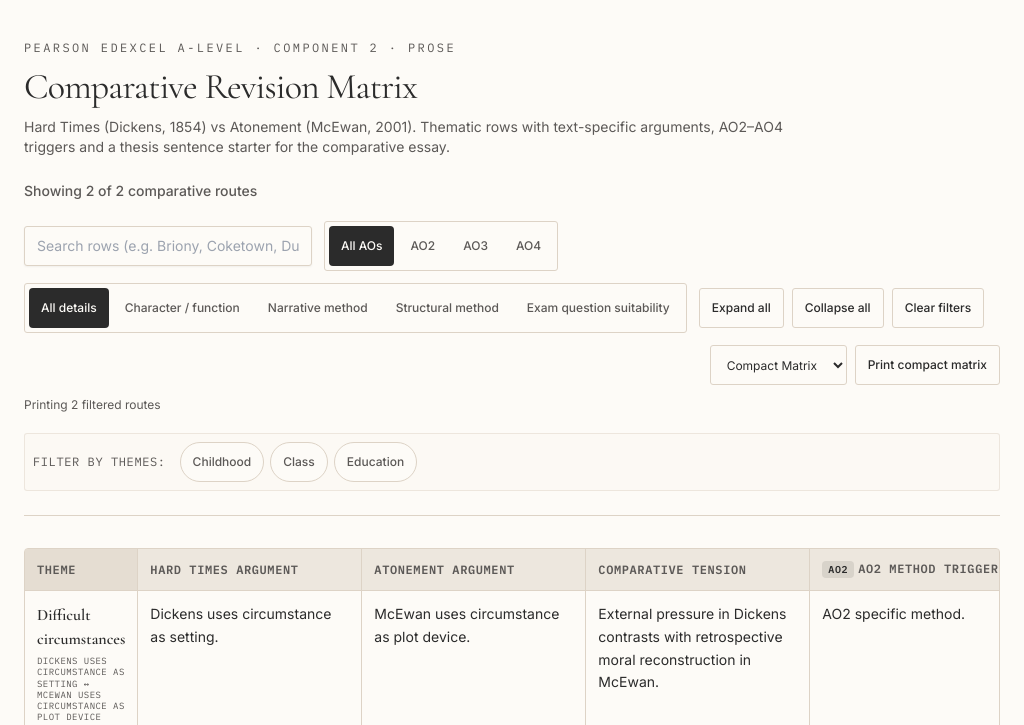
Test: ComparativeMatrix › filters rows by inclusion when an AO filter is selected
This screenshot has width=1024, height=725.
Expected: the text "Showing 2 of 2 comparative routes" is shown, [24,182,257,199]
Click the button "AO2" at [423, 246], box [398,226,447,266]
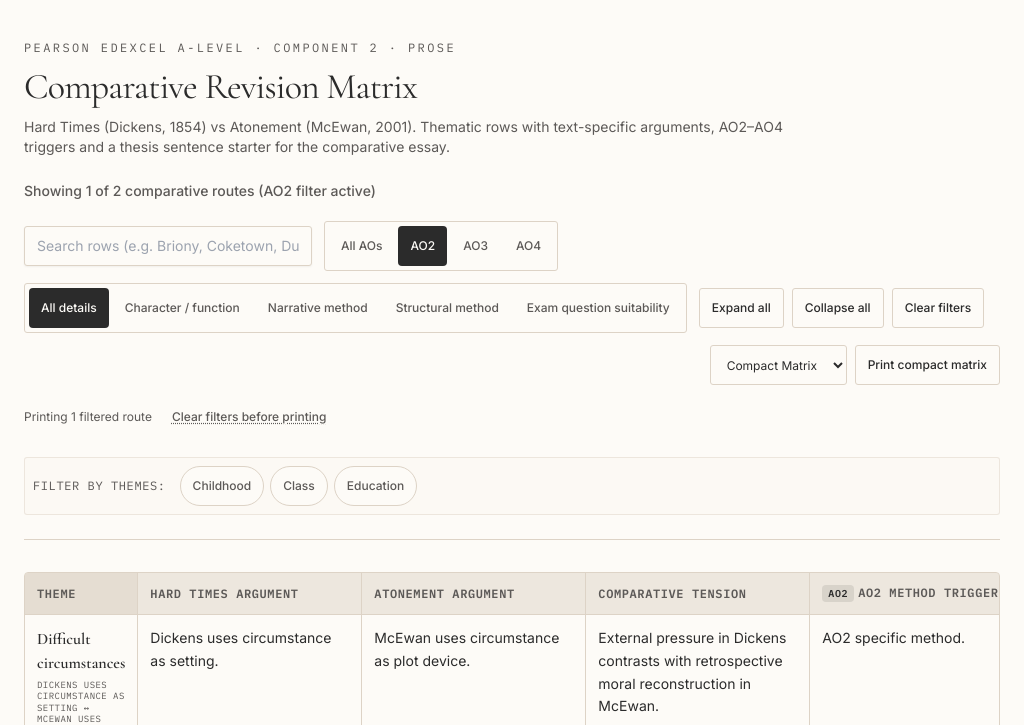
Now the text "Showing 1 of 2 comparative routes (AO2 filter active)" is shown, box [24,182,376,199]
